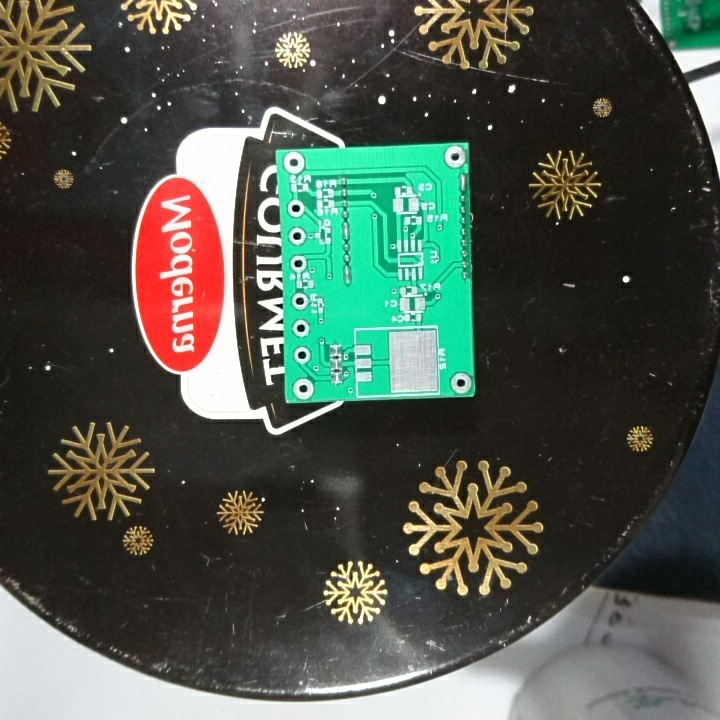F: (279, 150, 308, 178), (442, 143, 467, 170), (448, 370, 473, 396), (292, 375, 316, 400), (288, 253, 310, 275), (289, 290, 311, 312), (285, 198, 307, 219), (292, 344, 313, 366), (291, 317, 312, 338), (288, 226, 308, 248)
P: (341, 262, 354, 286), (457, 170, 469, 193), (340, 220, 352, 243)
